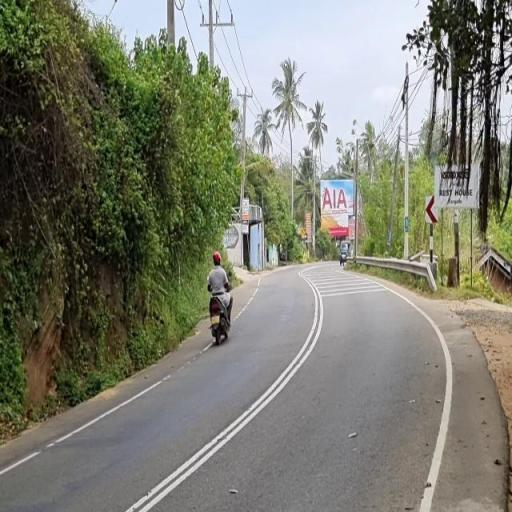double_white_line: (125, 277, 324, 510)
